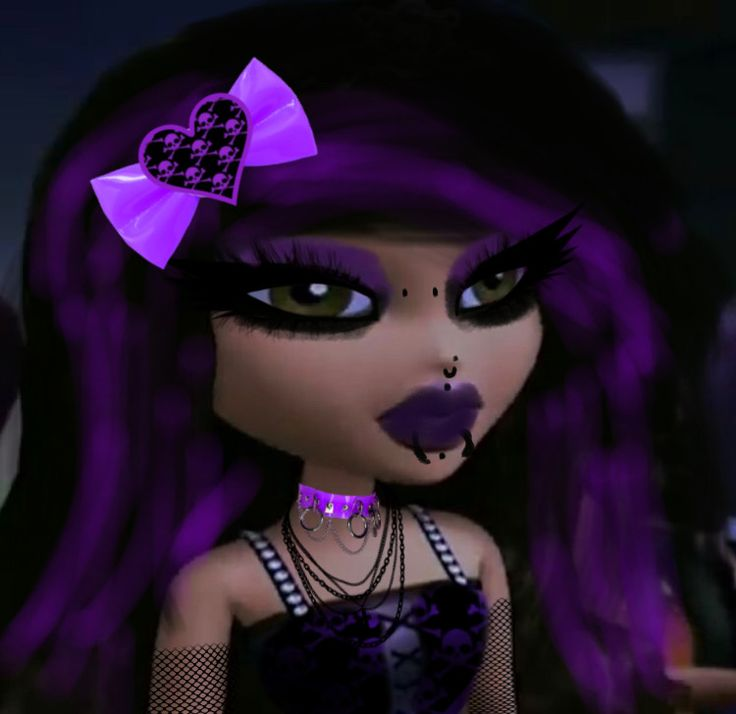Imprimante: (393, 404, 592, 520)
